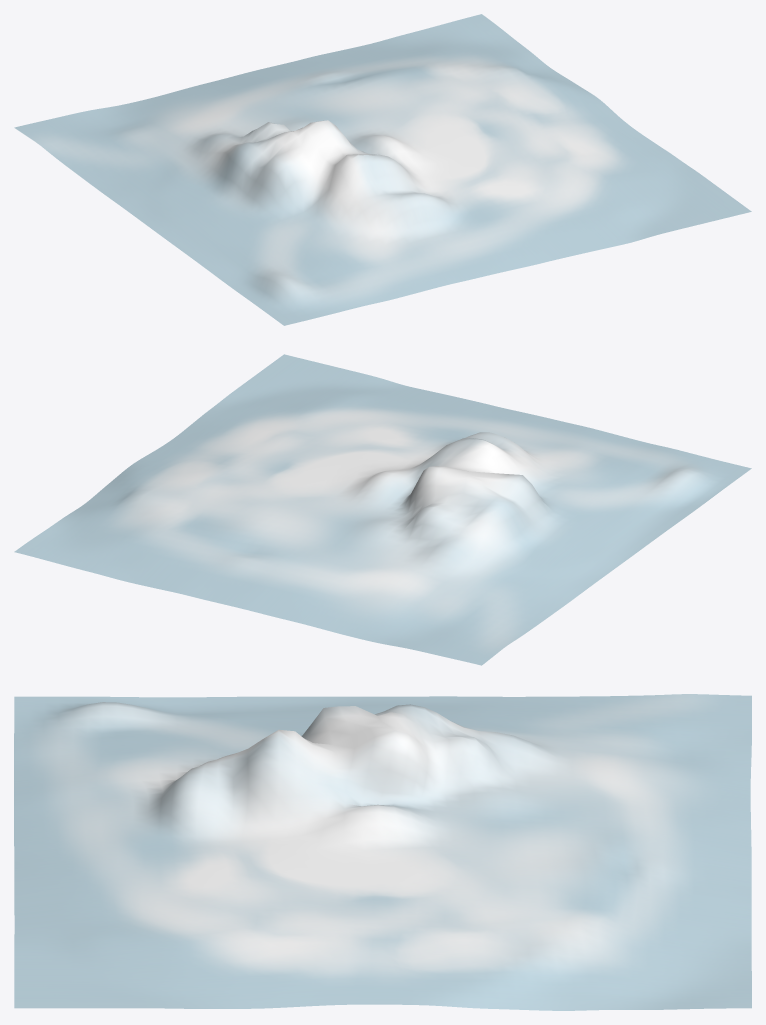
The model's file is snow small.fbx.
3 views of the same model, one above another, from view 1: azimuth 30°, elevation 25°; view 2: azimuth 150°, elevation 25°; view 3: azimuth 270°, elevation 25° (orthographic). The views are drawn at different scales.
Visible parts, largest first — view 1: pPlane4; view 2: pPlane4; view 3: pPlane4.
Part boxes in pixels (x1=…): pPlane4: x1=14, y1=14, x2=751, y2=325; pPlane4: x1=14, y1=354, x2=751, y2=665; pPlane4: x1=14, y1=694, x2=751, y2=1010.
Size of the model in its own units: 14.68 by 1.87 by 14.68.
